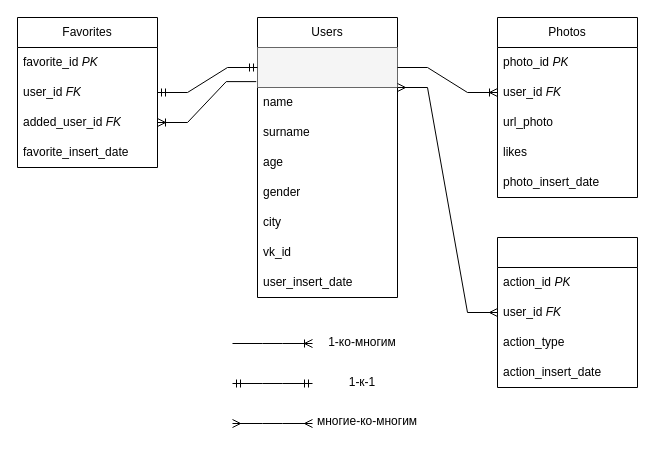
The diagram is 655 pixels wide and 454 high, and some of its shapes have lost their labels. Each missing label, with the box of its shape:
user_id PK: (256, 46, 398, 88)
UserActions: (496, 236, 638, 388)
